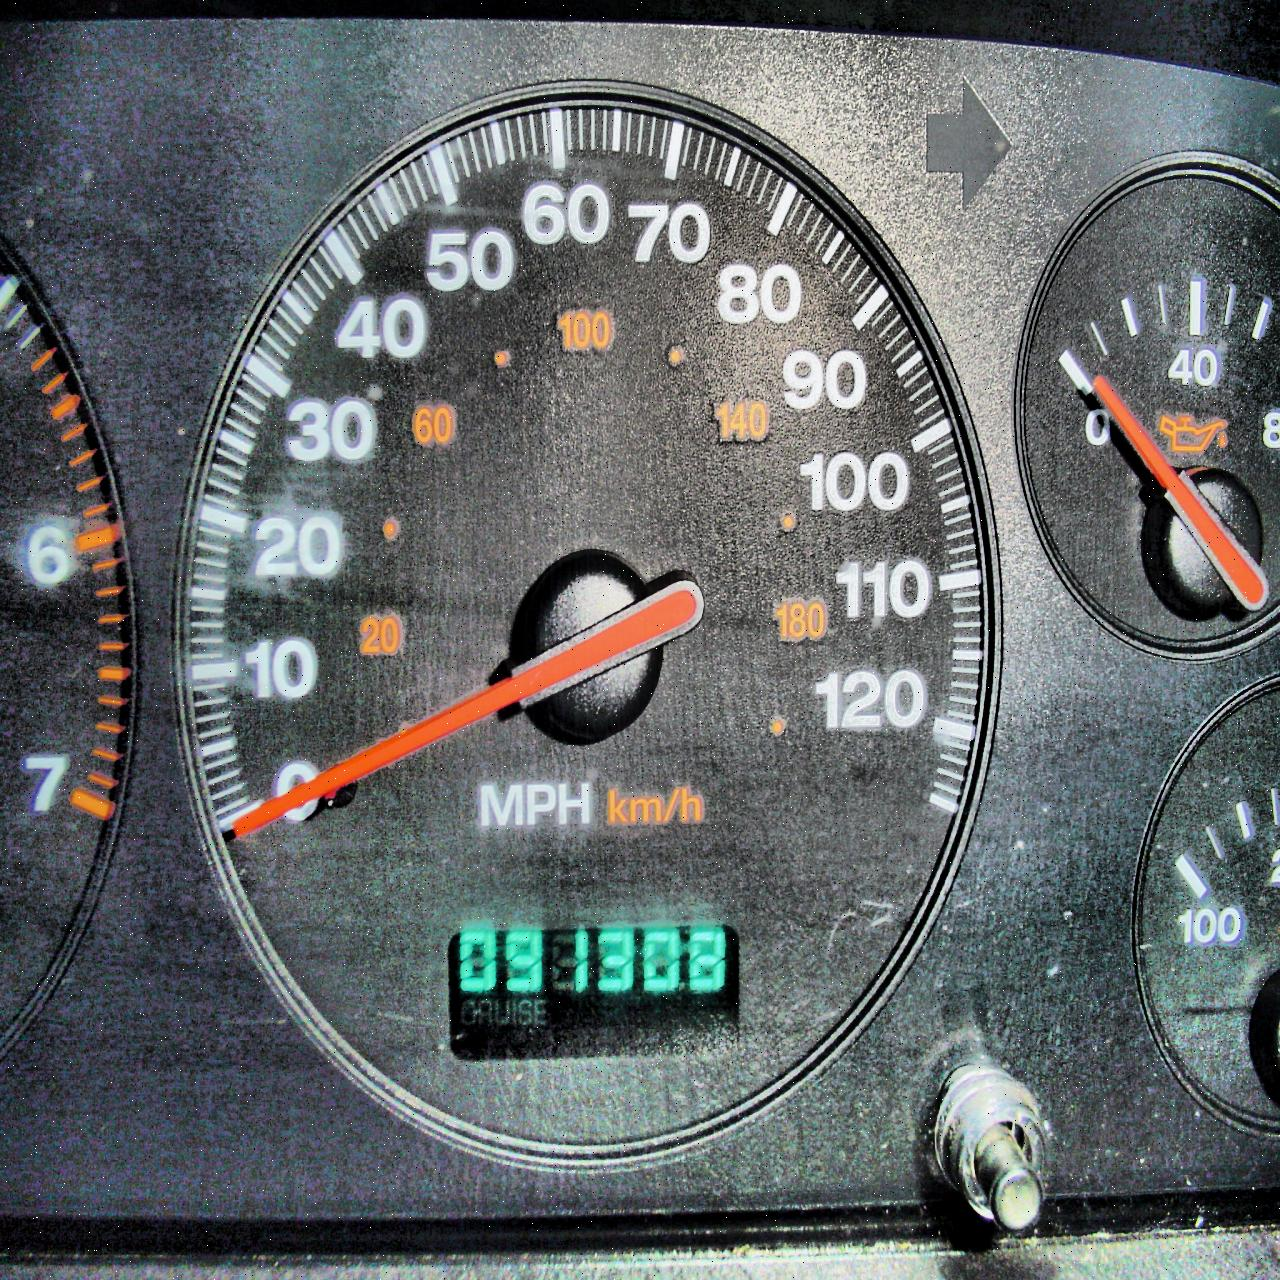0: (455, 931, 506, 999), (645, 928, 685, 996)
1: (571, 931, 592, 996)
3: (598, 931, 636, 996)
8: (690, 930, 726, 999)
9: (503, 931, 543, 998)
odometer: (445, 912, 753, 1069)
